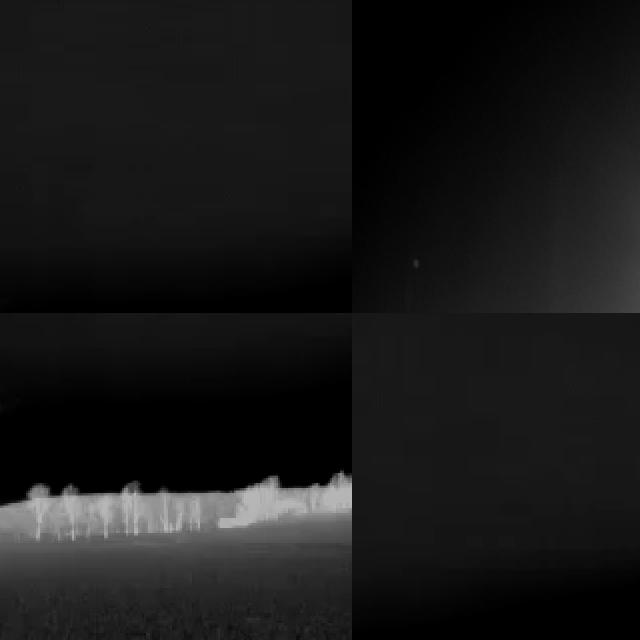1: (0, 391, 12, 426)
drone: (559, 307, 574, 313)
